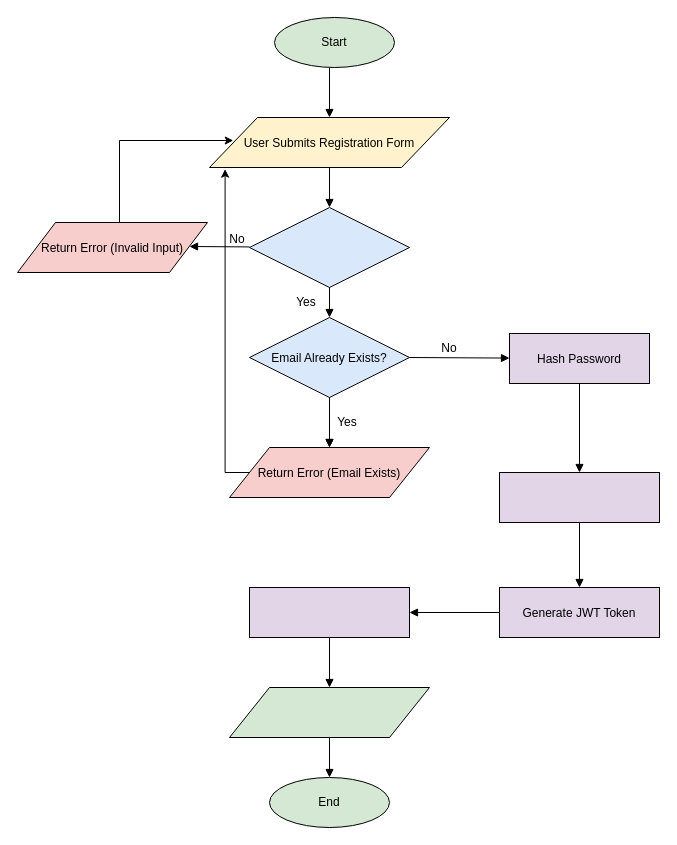
Some shapes in this 677 by 845 pixel diagram are drawn without their labels. Here are the shapes that lost their labels. From the top down, the centre of each, then its label:
At (329,247): "Validate Input Data Is valid?".
At (579,497): "Create User in DB".
At (329,612): "Send Welcome Email".
At (329,712): "Return Success Response".
